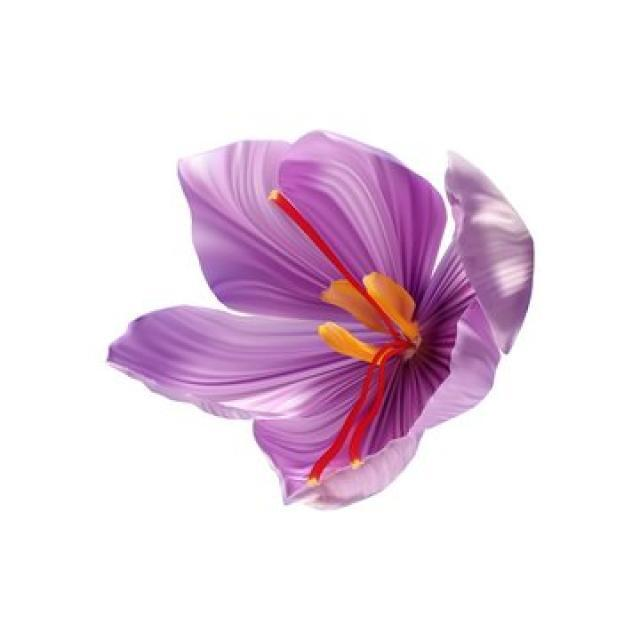Flower: (152, 161, 540, 487)
stigma: (300, 343, 389, 490), (265, 184, 372, 303), (344, 348, 406, 477)
